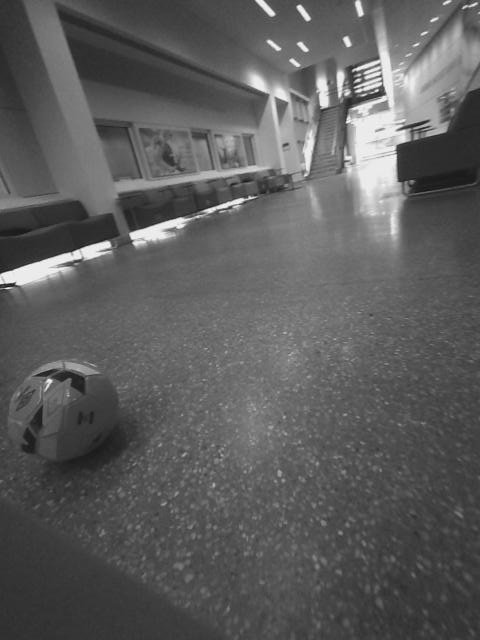ball: (4, 351, 123, 466)
